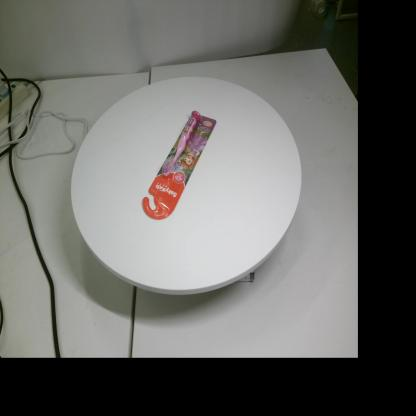Personal Hygiene: (142, 111, 216, 220)
